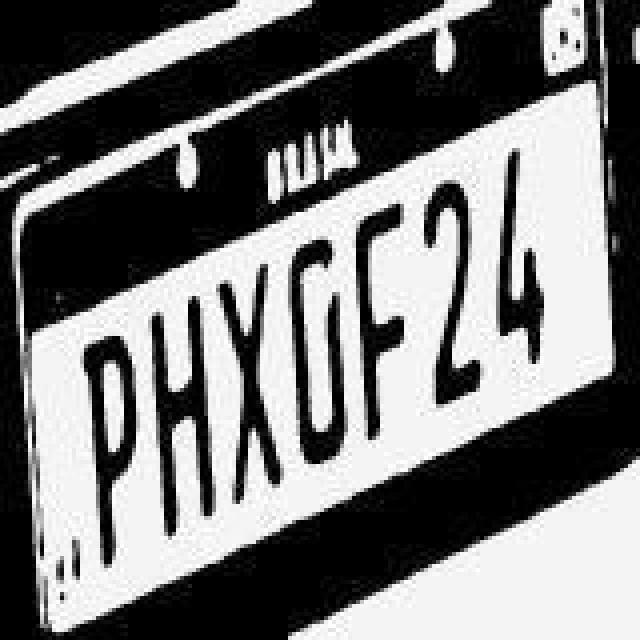2: (420, 176, 484, 408)
4: (490, 144, 550, 368)
D: (290, 238, 350, 466)
F: (352, 198, 408, 442)
H: (148, 292, 220, 540)
P: (80, 334, 144, 570)
X: (216, 260, 280, 508)
